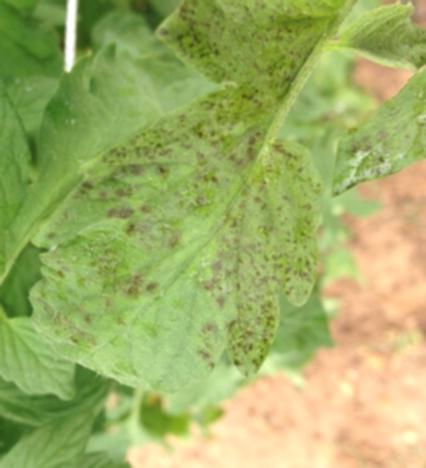Tomato Septoria leaf spot: (33, 104, 309, 383), (137, 0, 422, 86), (339, 27, 426, 203)
